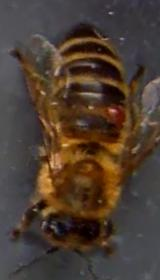varroa_mite: (98, 101, 128, 125)
